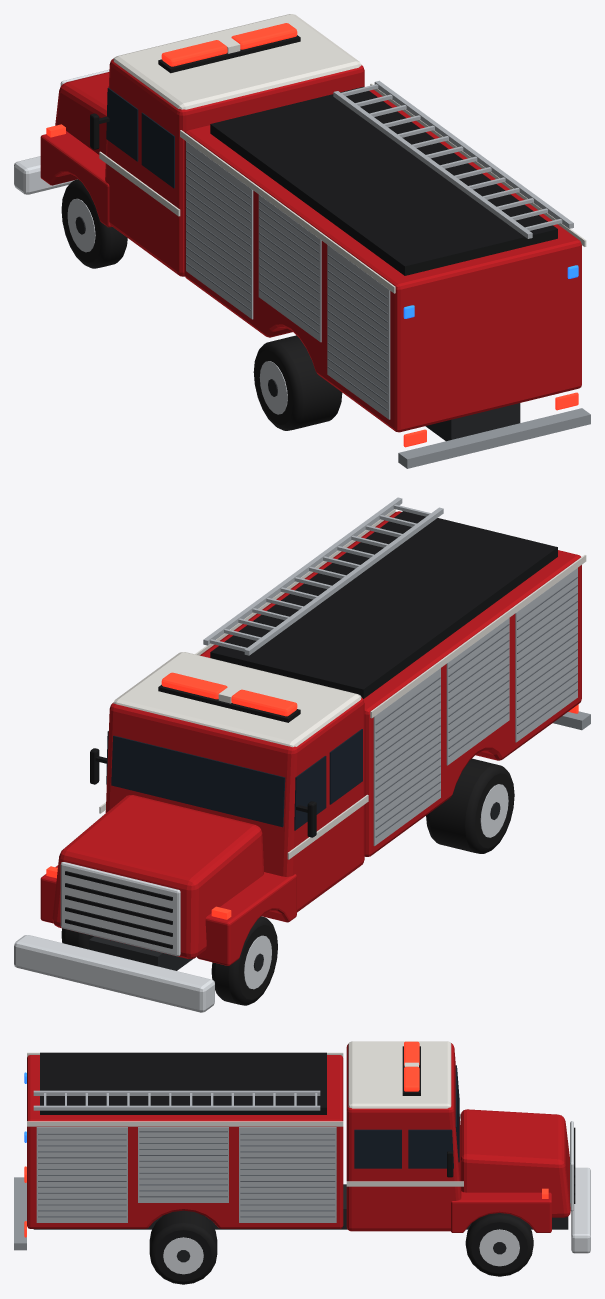
3 views of the same model, one above another, from view 1: azimuth 30°, elevation 25°; view 2: azimuth 150°, elevation 25°; view 3: azimuth 270°, elevation 25° (orthographic). The views are drawn at different scales.
Parts seen in each view (by area): view 1: nadgradnja, cevi, rolete, kabina, streha_bela, lestev, utori, guma1-1, zadaj_stopnica, blatnik, hauba, trak (+11 smaller); view 2: cevi, rolete, kabina, hauba, nadgradnja, streha_bela, vetrobran, odbijac, maska, lestev, utori, guma1-1 (+13 smaller); view 3: rolete, cevi, nadgradnja, kabina, hauba, utori, streha_bela, lestev, guma11, blatnik.001, guma01, trak (+12 smaller).
Part boxes in pixels (x1,y1,x2,y2): nadgradnja: (184,89,581,432); cevi: (210,86,557,275); rolete: (186,141,390,419); kabina: (105,58,364,276); streha_bela: (113,14,361,109); lestev: (333,80,573,238); utori: (186,150,388,411); guma1-1: (253,335,342,430); zadaj_stopnica: (398,408,590,468); blatnik: (40,131,111,227); hauba: (55,72,109,154); trak: (180,83,586,293); cevi: (210,511,557,698); rolete: (373,568,577,845); kabina: (105,697,364,912); hauba: (52,795,263,959); nadgradnja: (200,511,581,856); streha_bela: (113,652,361,747); vetrobran: (111,735,285,827); odbijac: (14,935,214,1012); maska: (60,862,180,956); lestev: (203,497,443,655); utori: (375,577,577,837); guma1-1: (426,758,514,853); rolete: (36,1127,336,1222); cevi: (40,1052,326,1114); nadgradnja: (27,1055,343,1228); kabina: (346,1043,461,1231); hauba: (460,1109,570,1217); utori: (38,1131,335,1217); streha_bela: (348,1041,451,1108); lestev: (33,1090,320,1110); guma11: (149,1210,217,1284); blatnik.001: (451,1191,551,1232); guma01: (465,1213,533,1276); trak: (27,1052,343,1126).
Size of the model in its own units: 2.92 by 3.1 by 8.85.
